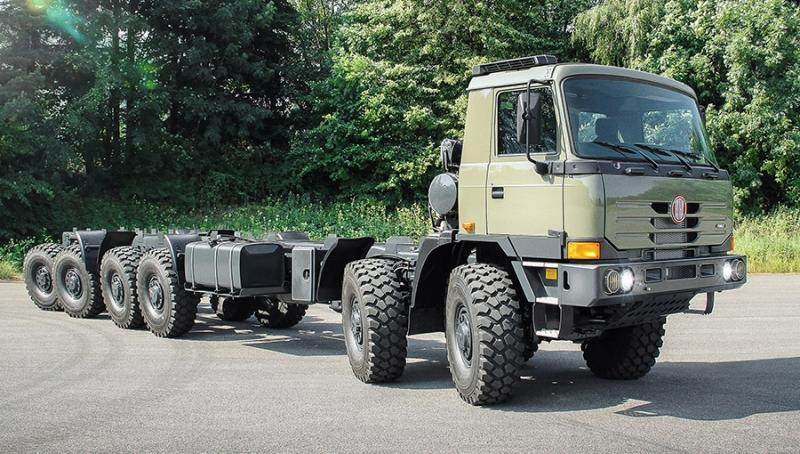truck: (43, 21, 762, 382)
